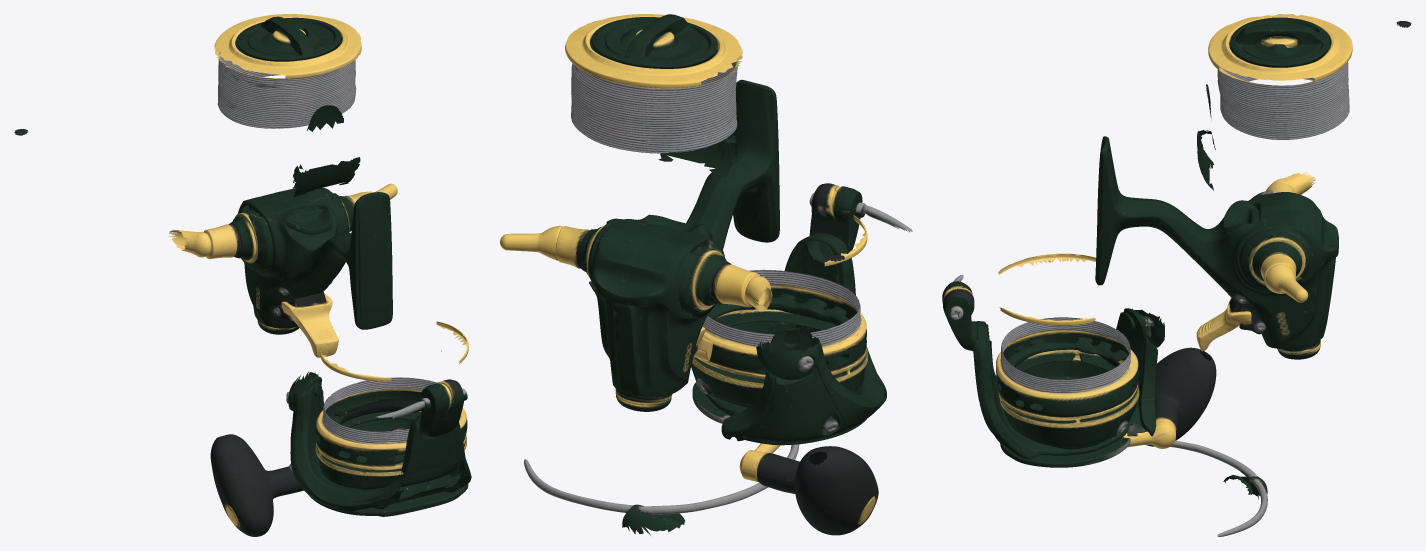
File: baitrunner_fjordline.glb
3 renders of one model, left to right at view 1: azimuth 30°, elevation 25°; view 2: azimuth 150°, elevation 25°; view 3: azimuth 270°, elevation 25°, orthographic. The views are drawn at different scales.
Parts seen in each view (by area): view 1: Body, Rotor, Crank; view 2: Body, Rotor, Crank, Bail; view 3: Body, Rotor, Crank, Bail.
Boxes of the visible parts, left/top/right/bottom form: Body: left=14, top=14, right=397, bottom=357; Rotor: left=286, top=321, right=471, bottom=516; Crank: left=210, top=434, right=407, bottom=536; Body: left=500, top=14, right=844, bottom=411; Rotor: left=691, top=183, right=912, bottom=445; Crank: left=739, top=443, right=878, bottom=535; Bail: left=524, top=444, right=799, bottom=535; Body: left=1095, top=14, right=1411, bottom=359; Rotor: left=942, top=253, right=1164, bottom=467; Crank: left=1123, top=347, right=1216, bottom=448; Bail: left=1147, top=440, right=1267, bottom=536.
Size of the model in its own units: 0.1725 by 0.2066 by 0.1887.
Materials: 1 (1 with a texture image).
